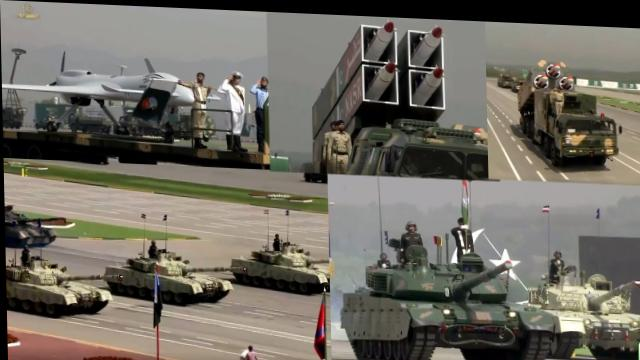other: (221, 70, 246, 141), (188, 67, 211, 139), (330, 113, 351, 170), (252, 72, 269, 142), (395, 214, 424, 250), (545, 241, 565, 272), (550, 81, 565, 112)
tank: (342, 261, 545, 360), (526, 273, 636, 354), (106, 251, 227, 303), (4, 257, 105, 315), (232, 240, 323, 287)
